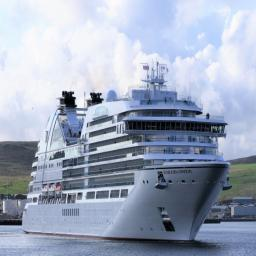cruises: (22, 61, 234, 247)
